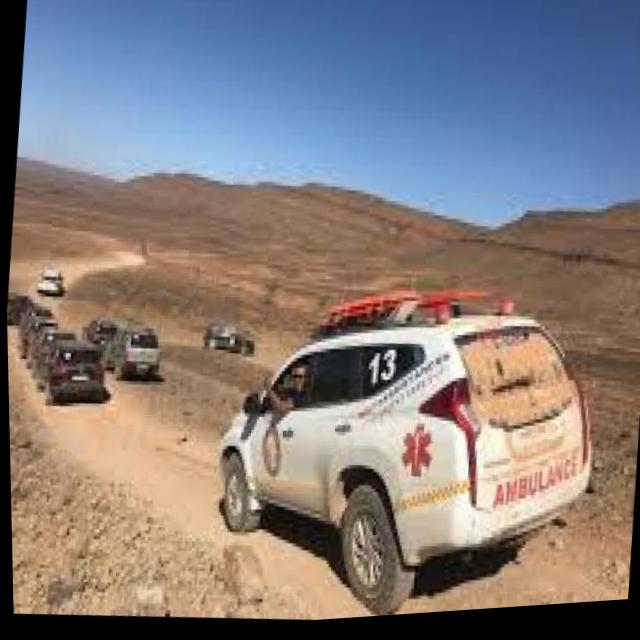ambulance: (195, 251, 623, 630)
